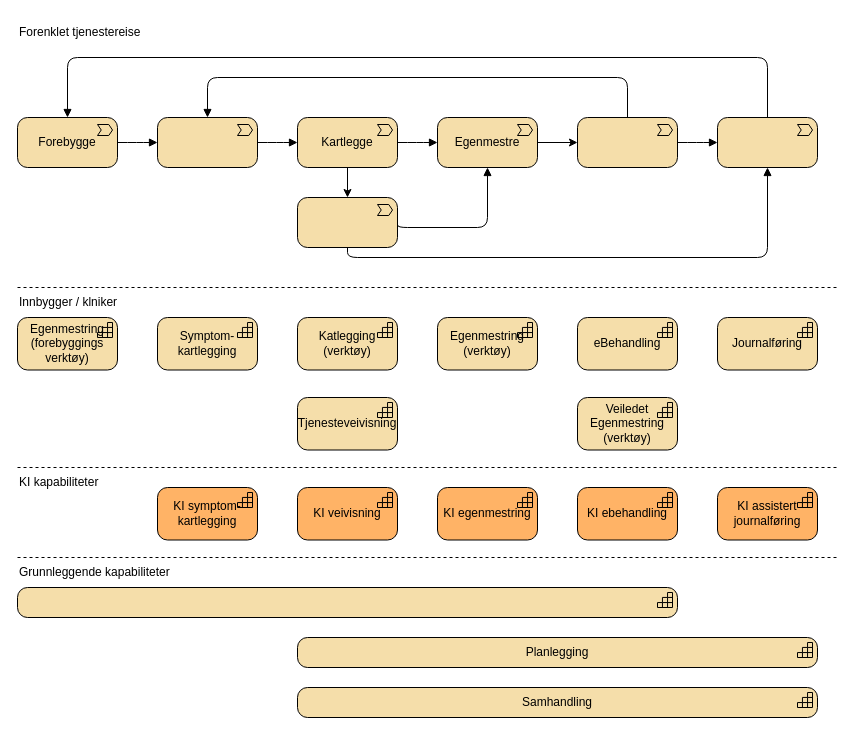
The diagram is 856 pixels wide and 735 high, and some of its shapes have lost their labels. The centre of each missing label's shape, as x and y in pixels:
Behandling med klinker: (x=627, y=142)
Fastlege, Spesialist, legevakt etc: (x=767, y=142)
Oppleve Symptomer: (x=207, y=142)
Veivise til tjenesten: (x=347, y=222)
Økosystem fasilitering: (x=347, y=602)
